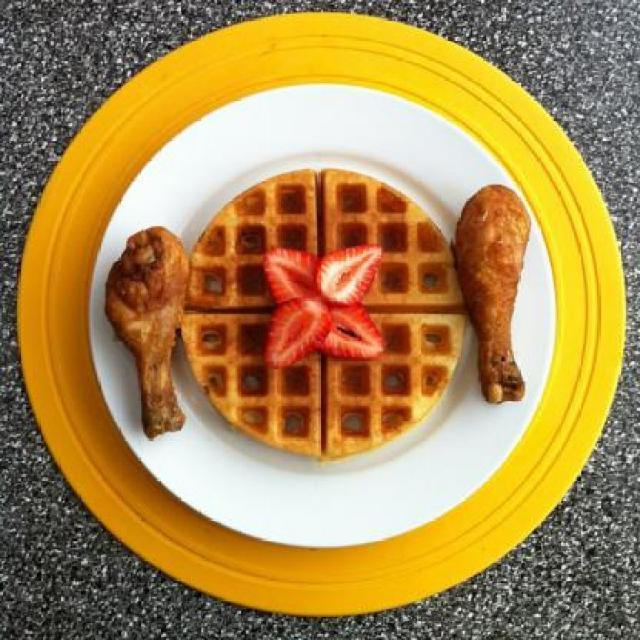Waffle: (180, 167, 466, 466)
